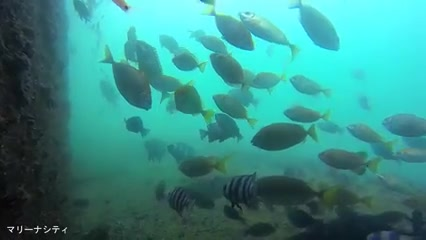azi: (238, 9, 301, 61), (269, 94, 332, 119), (315, 149, 383, 172)
ishidai: (219, 167, 272, 208)
smallfish: (99, 48, 156, 111), (249, 119, 322, 153), (168, 80, 215, 123), (210, 90, 262, 128), (344, 120, 401, 154), (288, 72, 342, 103), (179, 151, 233, 177), (170, 50, 214, 79), (246, 71, 291, 98), (120, 110, 156, 142)
